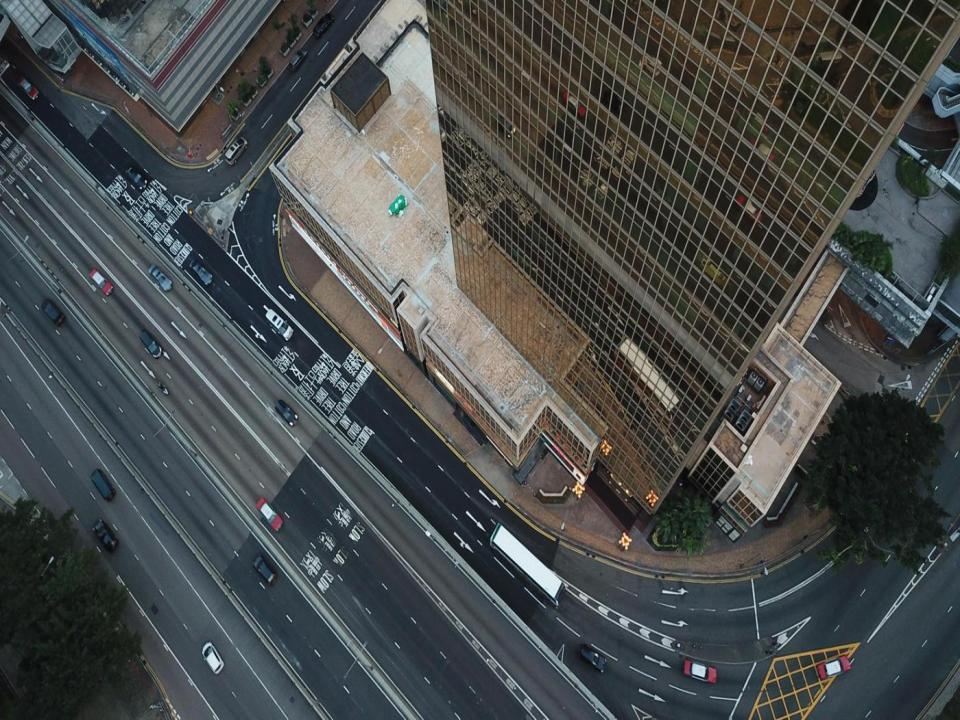bus: (489, 522, 565, 608)
car: (256, 496, 282, 531), (93, 516, 118, 551), (578, 642, 606, 672), (682, 659, 717, 683), (265, 309, 292, 340), (817, 655, 850, 680), (90, 468, 114, 502), (201, 640, 223, 674), (188, 258, 213, 286), (138, 328, 162, 357), (253, 554, 276, 584), (149, 264, 173, 292), (89, 267, 113, 295), (275, 397, 298, 426), (41, 298, 65, 325), (126, 165, 147, 190), (313, 13, 334, 38), (16, 76, 38, 99), (288, 50, 306, 72)
van: (224, 137, 247, 165)
